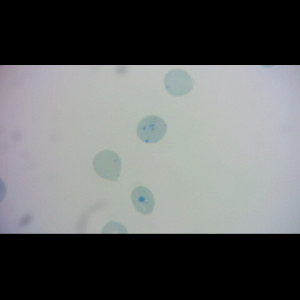aggregate reticulocyte: (136, 114, 170, 145)
erythrocyte: (130, 185, 156, 216)
punctate reticulocyte: (91, 149, 124, 183), (164, 69, 196, 97)
